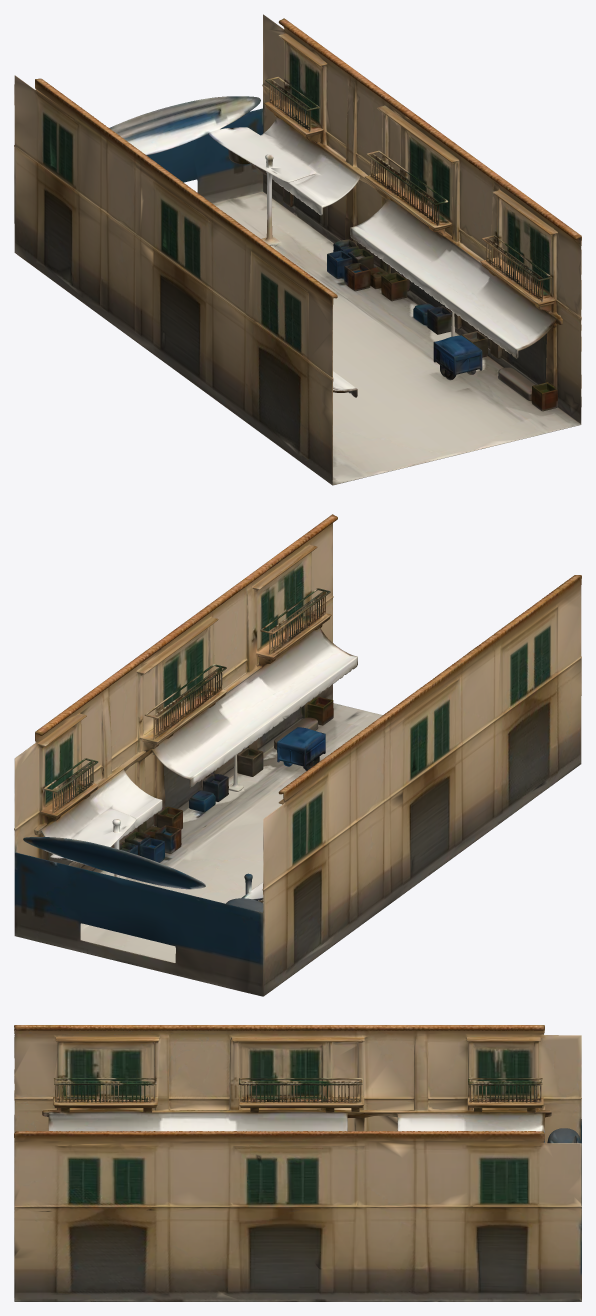
Rendered from seaside-visual-m.glb.
3 renders of one model, top to bottom at view 1: azimuth 30°, elevation 25°; view 2: azimuth 150°, elevation 25°; view 3: azimuth 270°, elevation 25°, orthographic. The views are drawn at different scales.
Parts seen in each view (by area): view 1: node_0; view 2: node_0; view 3: node_0.
Boxes of the visible parts, <box> form: node_0: <box>14,14,581,485</box>; node_0: <box>14,514,581,996</box>; node_0: <box>14,1025,581,1301</box>.
Bounding box in the file's own units: 0.4763 × 0.3441 × 1.05.
Materials: 1 (1 with a texture image).
